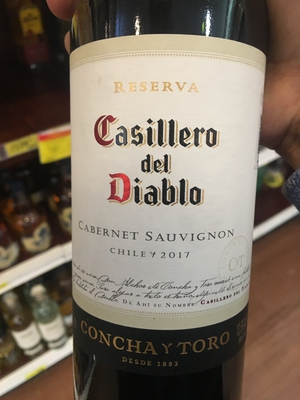casillero del diablo cabernet sauvignon: (64, 1, 266, 400)
